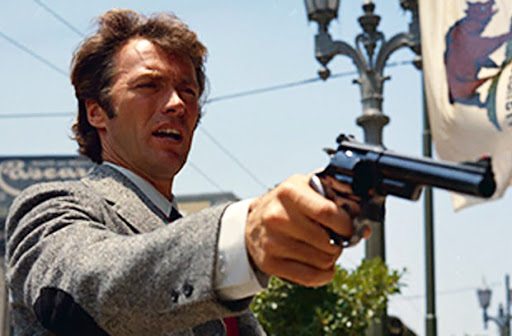gun: (305, 132, 498, 251)
